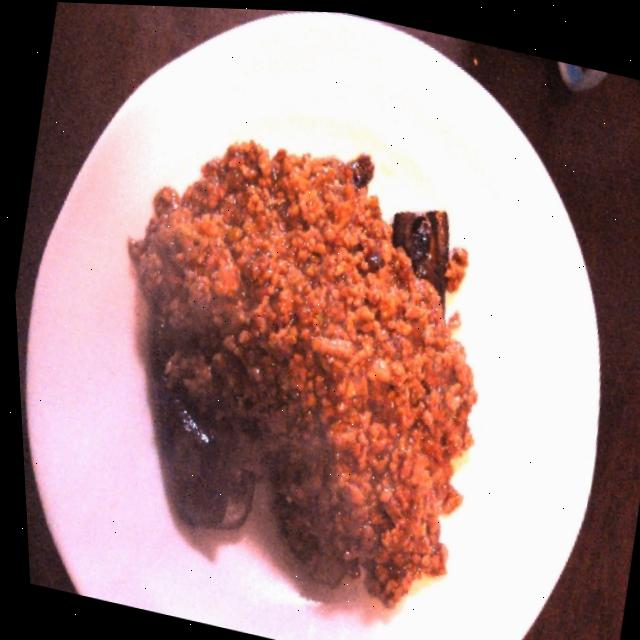鸡蛋料理: (34, 79, 572, 640)
